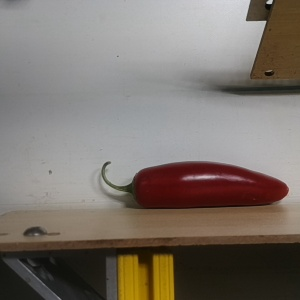Cut Point: (121, 166, 154, 210)
